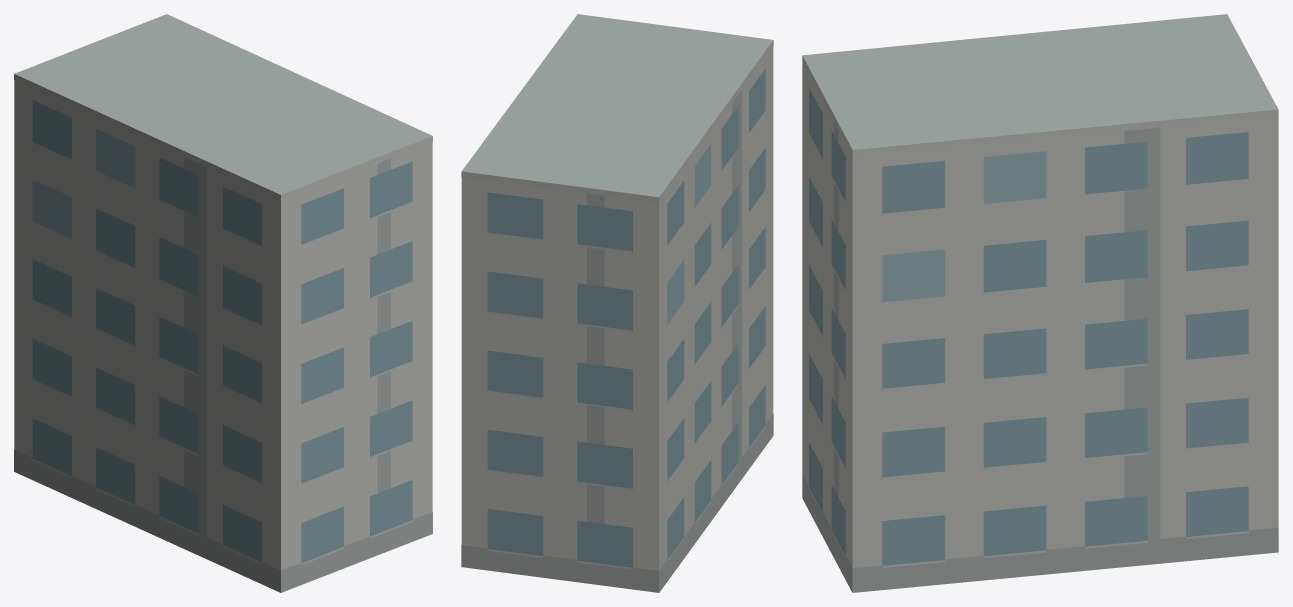
Rendered from survey-upis-32808938.glb.
The picture shows the model from 3 angles, left to right: view 1: azimuth 30°, elevation 25°; view 2: azimuth 150°, elevation 25°; view 3: azimuth 270°, elevation 25°; orthographic projection. The views are drawn at different scales.
Parts seen in each view (by area): view 1: survey-upis-32808938.tmp; view 2: survey-upis-32808938.tmp; view 3: survey-upis-32808938.tmp.
Boxes of the visible parts, x1,y1,x2,y2 form: survey-upis-32808938.tmp: (14,14,432,592); survey-upis-32808938.tmp: (461,14,773,592); survey-upis-32808938.tmp: (802,14,1278,592).
Bounding box in the file's own units: 10.41 × 15.8 × 15.41.
